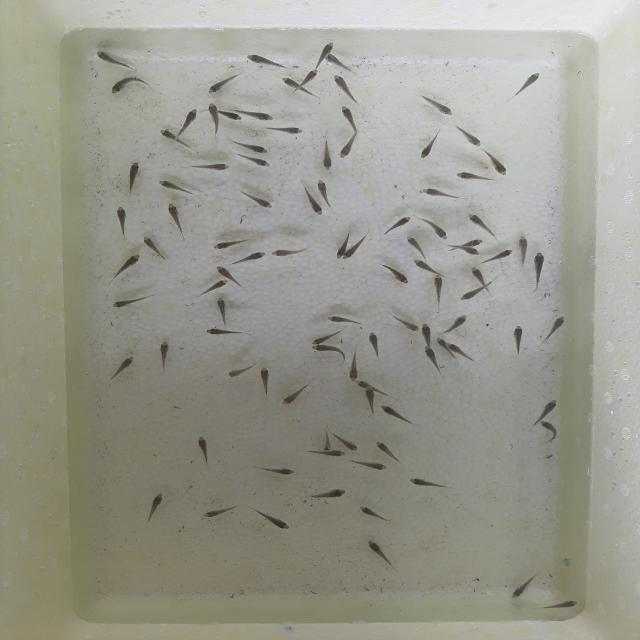fingerling: (187, 432, 223, 471), (366, 537, 400, 575), (246, 506, 293, 532), (107, 75, 151, 100), (512, 68, 546, 100), (102, 294, 158, 313), (510, 572, 545, 600), (92, 50, 144, 68), (540, 313, 569, 345), (246, 54, 292, 73), (487, 148, 516, 178), (110, 253, 142, 280), (236, 189, 279, 209), (423, 94, 457, 119), (198, 502, 245, 520), (164, 202, 190, 234), (153, 338, 181, 367), (450, 125, 485, 148), (155, 129, 190, 152), (234, 137, 274, 157), (345, 458, 392, 475), (380, 404, 418, 425), (156, 179, 200, 197), (304, 484, 353, 500), (209, 235, 246, 256), (278, 79, 316, 99), (377, 264, 415, 284), (526, 396, 560, 418), (422, 212, 448, 240), (177, 105, 199, 138), (120, 158, 144, 188), (384, 315, 421, 334), (206, 76, 241, 96), (314, 175, 338, 204), (208, 297, 238, 320), (453, 167, 493, 184), (182, 162, 234, 175), (144, 235, 170, 261), (283, 382, 310, 407), (307, 345, 349, 361), (508, 325, 528, 358), (402, 477, 448, 491), (344, 238, 376, 258), (543, 598, 583, 614), (466, 212, 496, 233), (373, 440, 408, 458), (334, 74, 359, 99), (111, 201, 127, 240), (258, 366, 278, 397), (362, 504, 393, 524), (417, 132, 439, 160), (411, 260, 452, 275), (420, 186, 456, 203), (421, 342, 438, 378), (206, 100, 222, 138), (200, 326, 250, 338), (112, 353, 137, 377), (362, 386, 382, 416), (385, 213, 414, 233), (432, 272, 450, 304), (147, 490, 166, 520), (226, 362, 253, 382), (249, 467, 303, 477), (229, 250, 267, 264), (300, 190, 322, 214), (364, 331, 386, 355), (270, 248, 317, 259), (325, 54, 352, 73), (335, 431, 362, 450), (198, 278, 230, 294), (321, 137, 335, 173), (340, 105, 360, 130), (343, 354, 362, 380), (541, 420, 558, 449), (325, 314, 366, 326), (443, 315, 470, 333), (447, 343, 477, 359), (339, 135, 360, 157), (416, 321, 434, 346), (317, 427, 334, 453), (312, 40, 332, 62), (532, 251, 546, 282), (304, 449, 347, 459), (242, 108, 277, 120), (214, 263, 246, 276), (261, 127, 306, 136), (406, 237, 428, 255), (331, 235, 347, 259), (241, 157, 273, 168), (482, 249, 514, 260), (448, 247, 480, 258), (518, 234, 530, 263), (351, 378, 389, 387), (455, 290, 483, 302), (467, 266, 487, 282), (311, 334, 338, 345), (434, 337, 448, 358), (220, 112, 246, 123), (456, 237, 485, 246), (302, 70, 319, 83)
